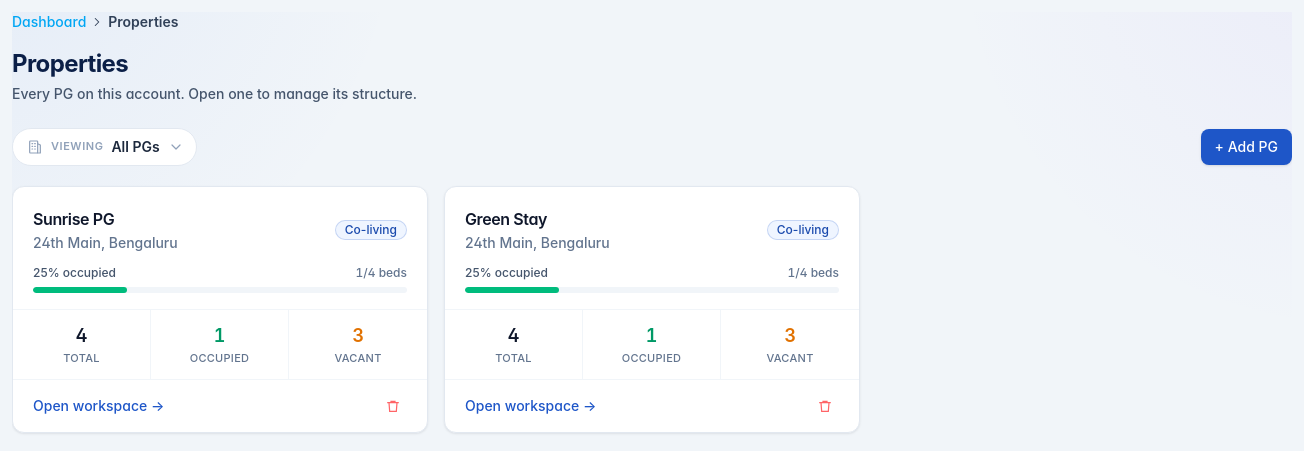
Test: PropertiesPage — Viewing filter › closes on Escape without changing the selection
Check: the button "Sunrise PG" is shown, box [33,207,114,231]
Click the button "Viewing All PGs" at {"x": 104, "y": 147}, box [12,128,197,166]
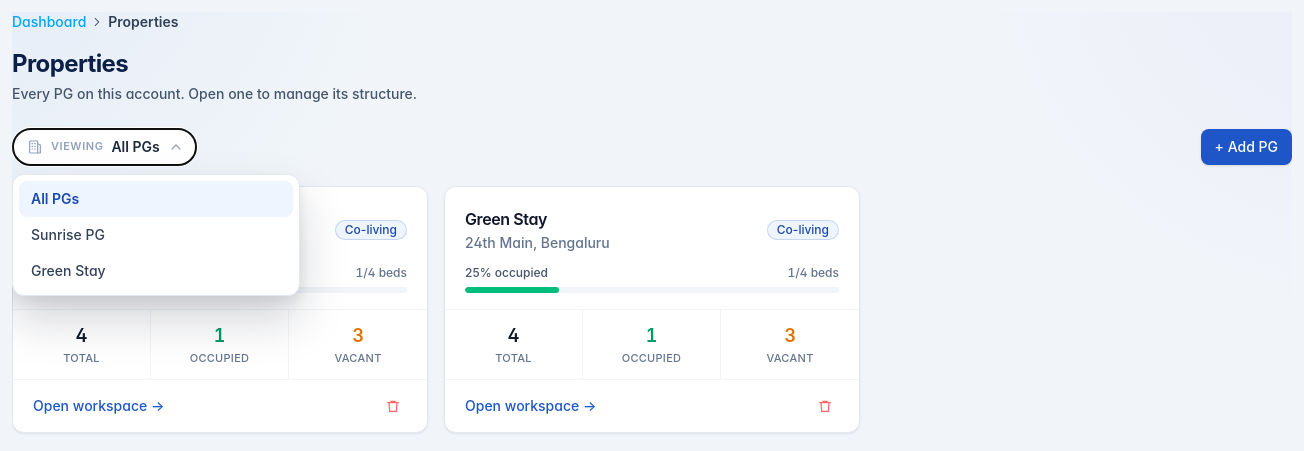
Press Escape
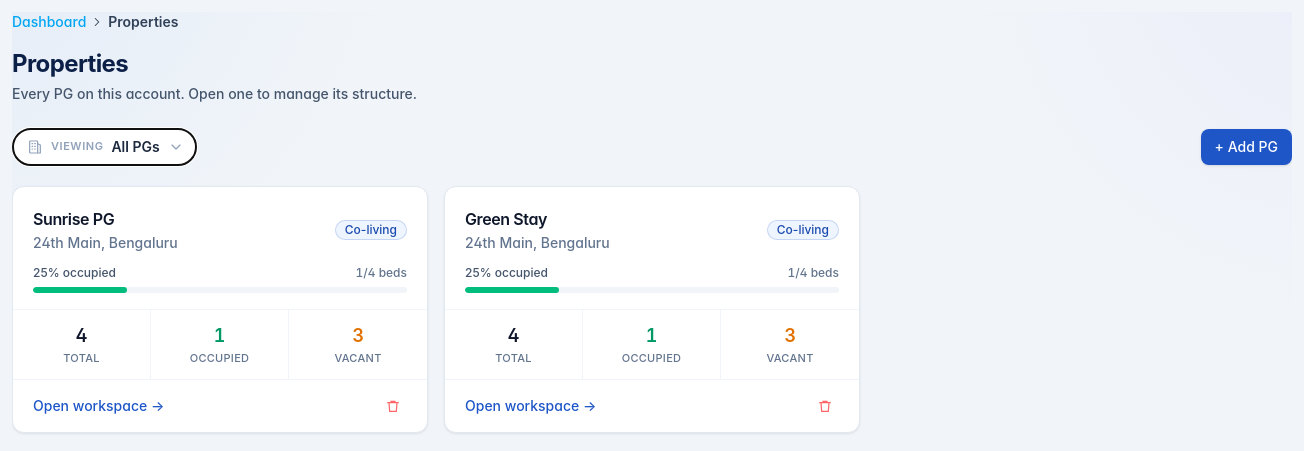
Check: the button "Green Stay" is shown, box [465,207,547,231]
Check: the list is gone
